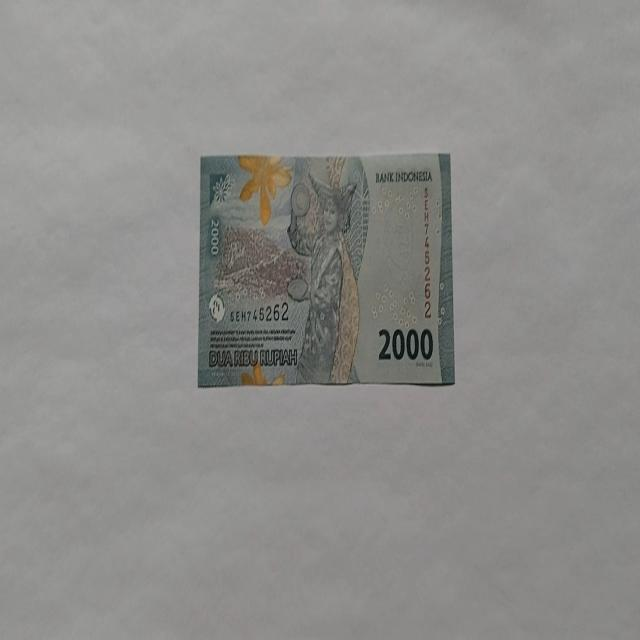dua ribu rupiah: (197, 151, 456, 388), (286, 169, 360, 385)
